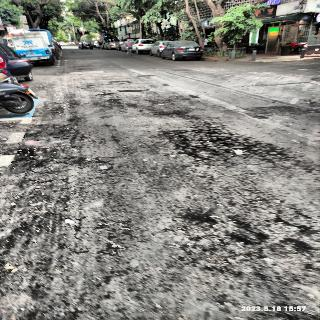alligator-crack: (166, 116, 287, 162)
